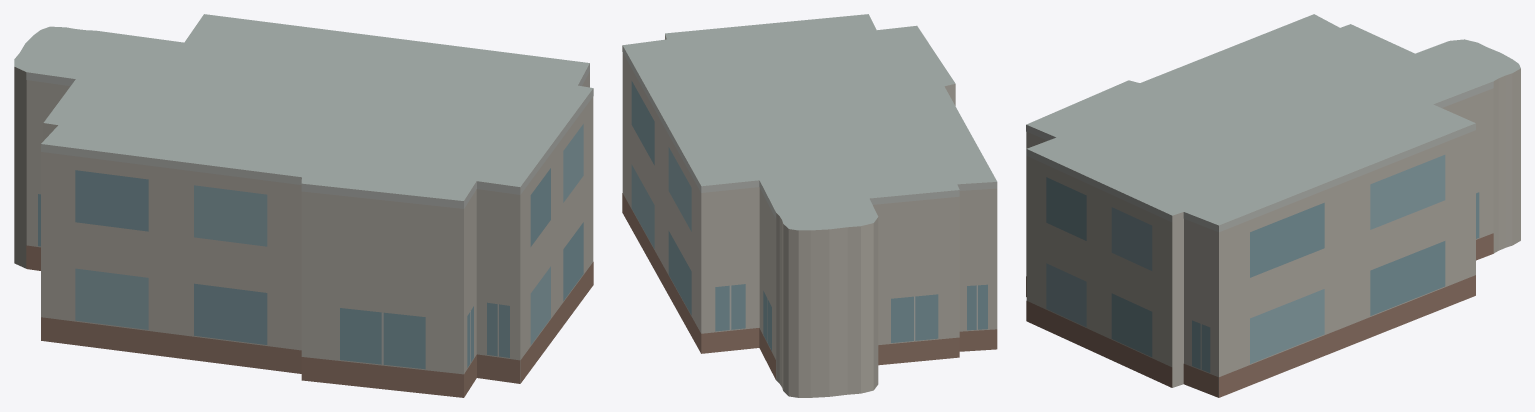
Rendered from survey-upis-32466467.glb.
The picture shows the model from 3 angles, left to right: view 1: azimuth 30°, elevation 25°; view 2: azimuth 150°, elevation 25°; view 3: azimuth 270°, elevation 25°; orthographic projection. The views are drawn at different scales.
Visible parts, largest first — view 1: survey-upis-32466467.tmp; view 2: survey-upis-32466467.tmp; view 3: survey-upis-32466467.tmp.
Boxes of the visible parts, x1,y1,x2,y2 form: survey-upis-32466467.tmp: [14, 14, 593, 397]; survey-upis-32466467.tmp: [622, 14, 997, 397]; survey-upis-32466467.tmp: [1026, 14, 1520, 397].
Size of the model in its own units: 16.06 by 6.1 by 15.87.
